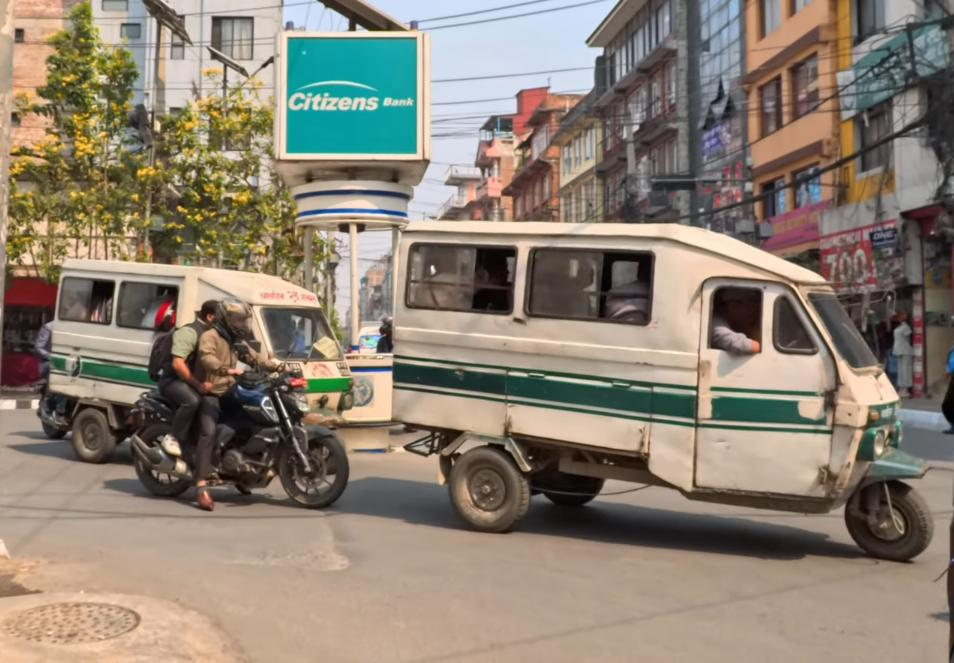bike: (123, 355, 360, 517)
tempo: (394, 204, 942, 567), (67, 264, 351, 468)
